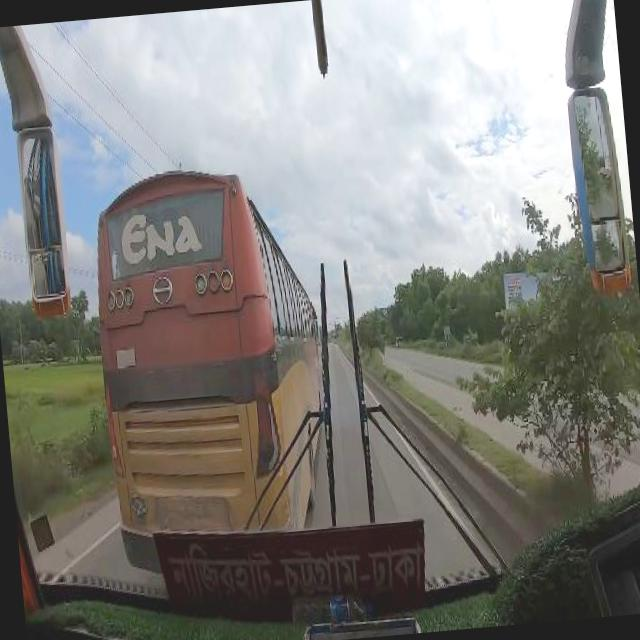bus: (84, 156, 332, 548)
